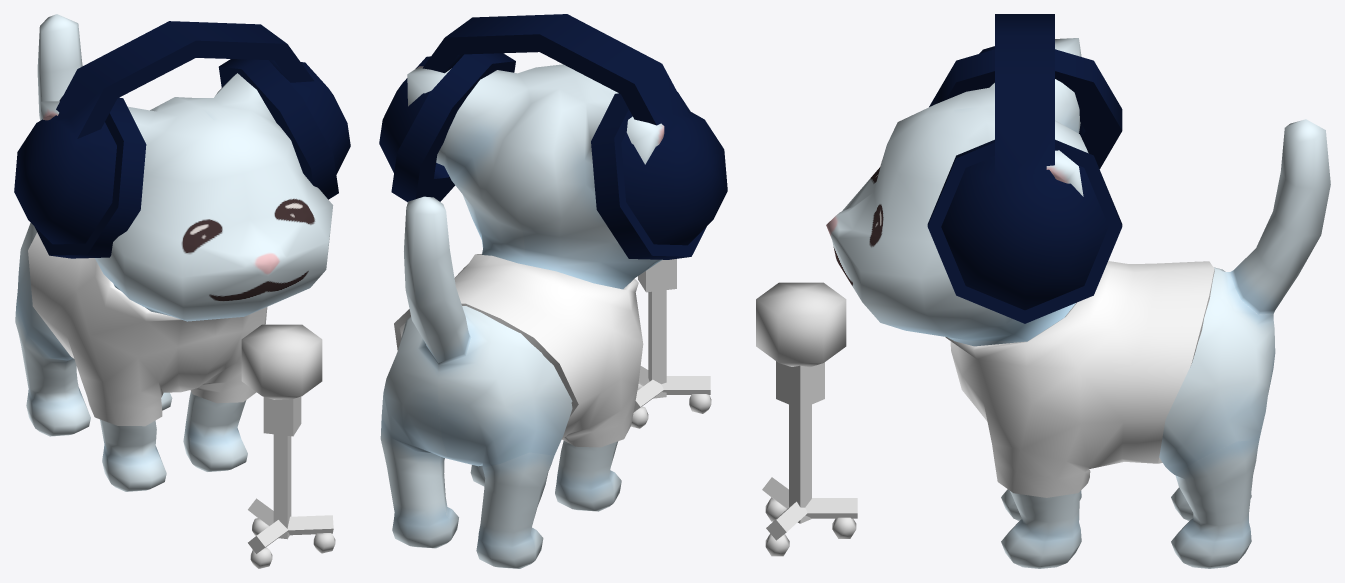
The model's file is Broadcaster Cat05.fbx.
3 renders of one model, left to right at view 1: azimuth 30°, elevation 25°; view 2: azimuth 150°, elevation 25°; view 3: azimuth 270°, elevation 25°, orthographic. The views are drawn at different scales.
Visible parts, largest first — view 1: Cat_Base004, Broadcaster_Cat_Headphones, Broadcaster_Cat_Shirt, Broadcaster_Cat_Mic; view 2: Cat_Base004, Broadcaster_Cat_Headphones, Broadcaster_Cat_Shirt, Broadcaster_Cat_Mic; view 3: Cat_Base004, Broadcaster_Cat_Headphones, Broadcaster_Cat_Shirt, Broadcaster_Cat_Mic.
Boxes of the visible parts, x1=… form: Cat_Base004: x1=15, y1=14, x2=333, y2=491; Broadcaster_Cat_Headphones: x1=14, y1=21, x2=350, y2=258; Broadcaster_Cat_Shirt: x1=28, y1=232, x2=267, y2=426; Broadcaster_Cat_Mic: x1=241, y1=324, x2=335, y2=568; Cat_Base004: x1=380, y1=64, x2=664, y2=568; Broadcaster_Cat_Headphones: x1=379, y1=14, x2=727, y2=259; Broadcaster_Cat_Shirt: x1=394, y1=254, x2=643, y2=447; Broadcaster_Cat_Mic: x1=631, y1=259, x2=711, y2=428; Cat_Base004: x1=826, y1=38, x2=1330, y2=568; Broadcaster_Cat_Headphones: x1=927, y1=14, x2=1122, y2=323; Broadcaster_Cat_Shirt: x1=945, y1=261, x2=1214, y2=497; Broadcaster_Cat_Mic: x1=756, y1=282, x2=857, y2=556.
Size of the model in its own units: 2.24 by 3.22 by 3.1.
3 materials, 1 textured.
